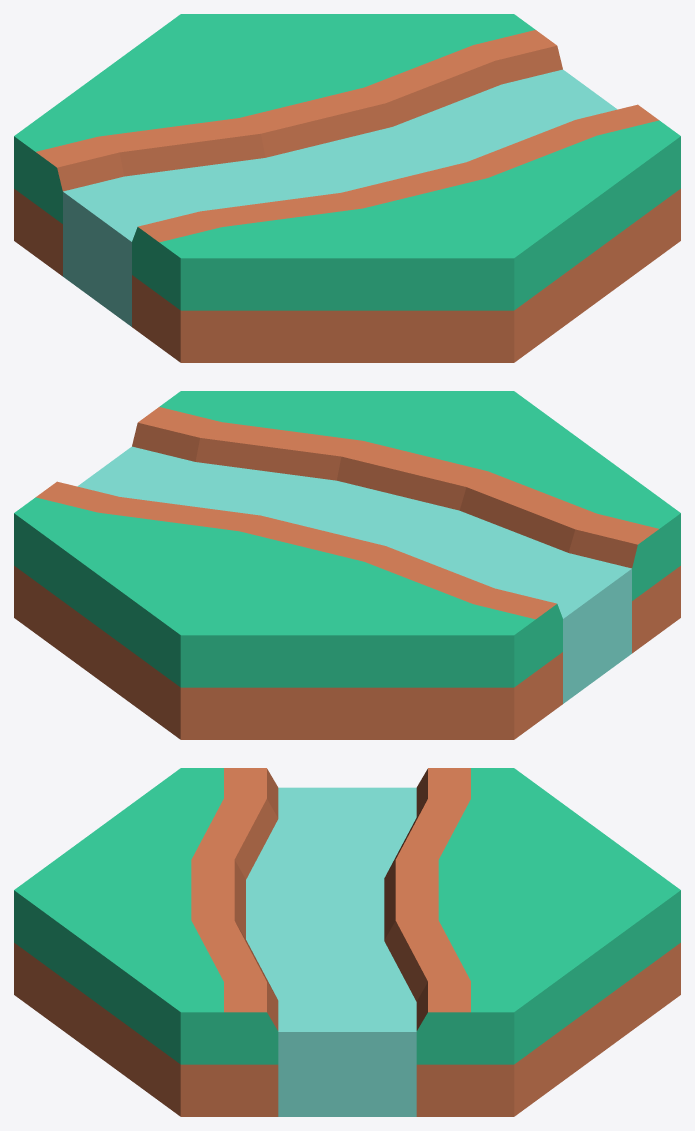
Rendered from River Straight.glb.
3 renders of one model, top to bottom at view 1: azimuth 30°, elevation 25°; view 2: azimuth 150°, elevation 25°; view 3: azimuth 270°, elevation 25°, orthographic.
Parts seen in each view (by area): view 1: river_straight; view 2: river_straight; view 3: river_straight.
Boxes of the visible parts, <box> form: river_straight: <box>14,14,680,362</box>; river_straight: <box>14,391,680,739</box>; river_straight: <box>14,768,680,1116</box>.
Bounding box in the file's own units: 1 × 0.2 × 1.15.
